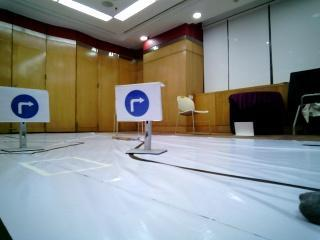right: (0, 86, 48, 122), (116, 86, 160, 118)
